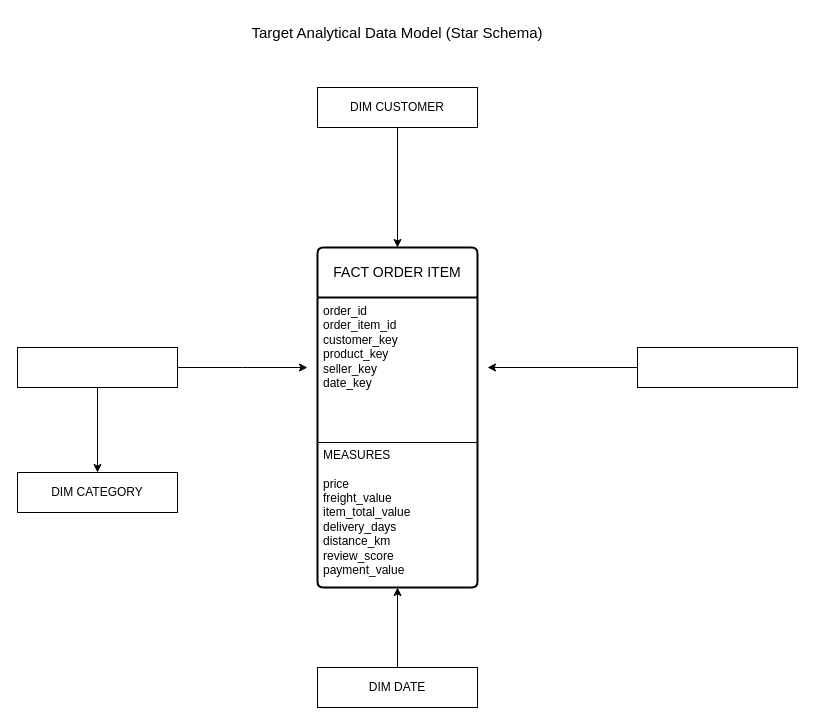
This 815x725 diagram has some shape labels left out. Here are the shapes that lost their labels. From the top down, the centre of each, then its label:
At point (97, 367): "DIM PRODUCT".
At point (717, 367): "DIM SELLER".
